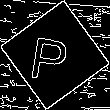P_N: (33, 27, 77, 83)
